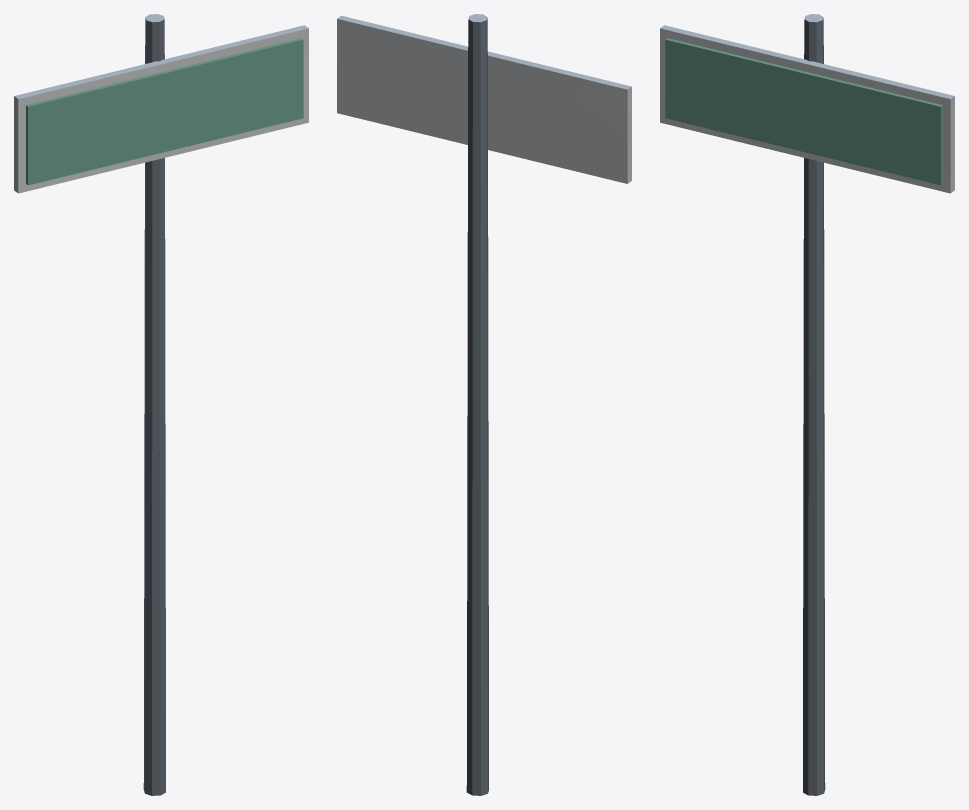
File: sign_street.glb
3 renders of one model, left to right at view 1: azimuth 30°, elevation 25°; view 2: azimuth 150°, elevation 25°; view 3: azimuth 330°, elevation 25°, orthographic.
Visible parts, largest first — view 1: Panel, Prop; view 2: Prop; view 3: Panel, Prop.
Boxes of the visible parts, bbox=[...] form: Panel: bbox=[26, 38, 303, 185]; Prop: bbox=[14, 14, 308, 795]; Prop: bbox=[337, 14, 631, 795]; Panel: bbox=[665, 38, 942, 185]; Prop: bbox=[660, 14, 954, 795].
Size of the model in its own units: 1.16 by 2.95 by 0.115.
